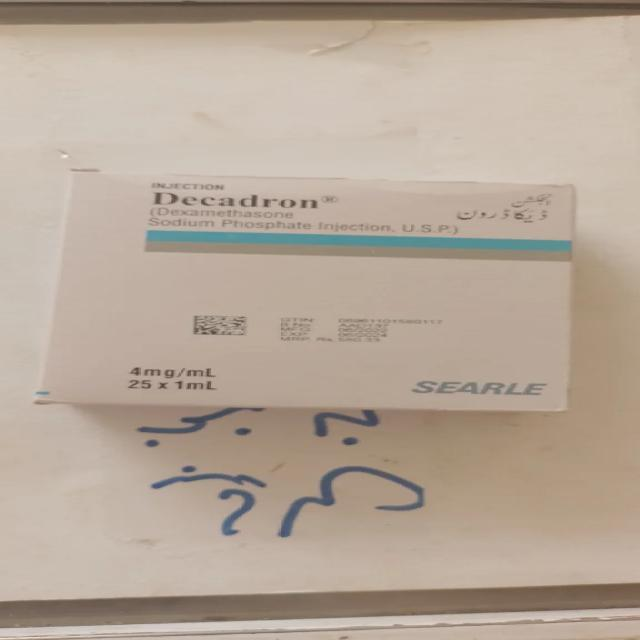drug-name: (154, 190, 316, 209)
